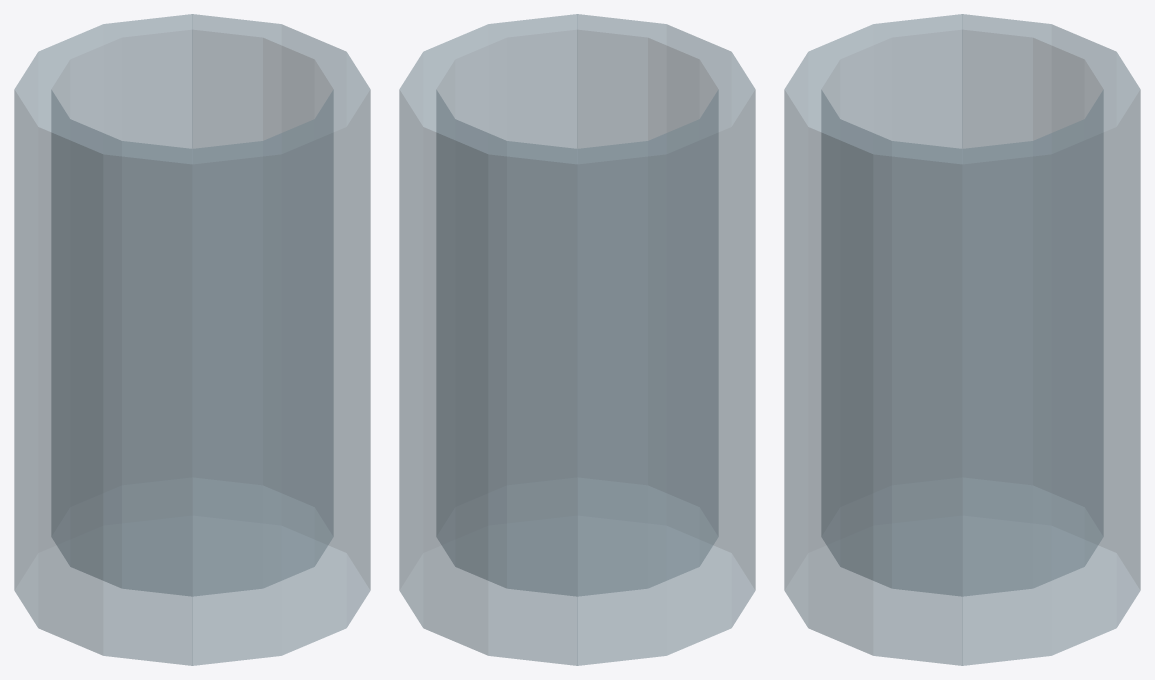
Rendered from glass.fbx.
3 renders of one model, left to right at view 1: azimuth 30°, elevation 25°; view 2: azimuth 150°, elevation 25°; view 3: azimuth 270°, elevation 25°, orthographic.
Parts seen in each view (by area): view 1: polySurface1; view 2: polySurface1; view 3: polySurface1.
Boxes of the visible parts, x1,y1,x2,y2 form: polySurface1: (14,14,370,665); polySurface1: (399,14,755,665); polySurface1: (784,14,1140,665).
Size of the model in its own units: 2 by 3.11 by 2.
